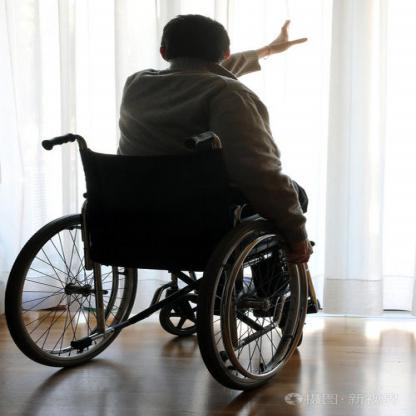wheelchair: (3, 11, 330, 389)
